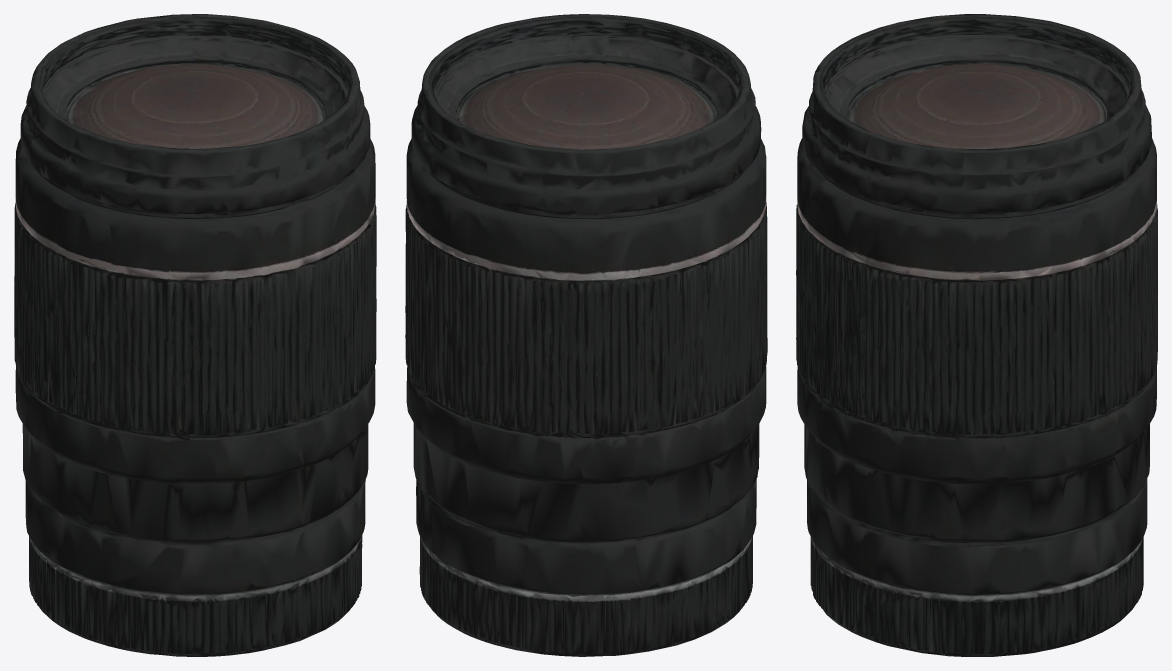
Rendered from camera-lens.glb.
3 views of the same model, side by side, from view 1: azimuth 30°, elevation 25°; view 2: azimuth 150°, elevation 25°; view 3: azimuth 270°, elevation 25° (orthographic).
Size of the model in its own units: 1.23 by 1.9 by 1.23.
1 material, 1 textured.
